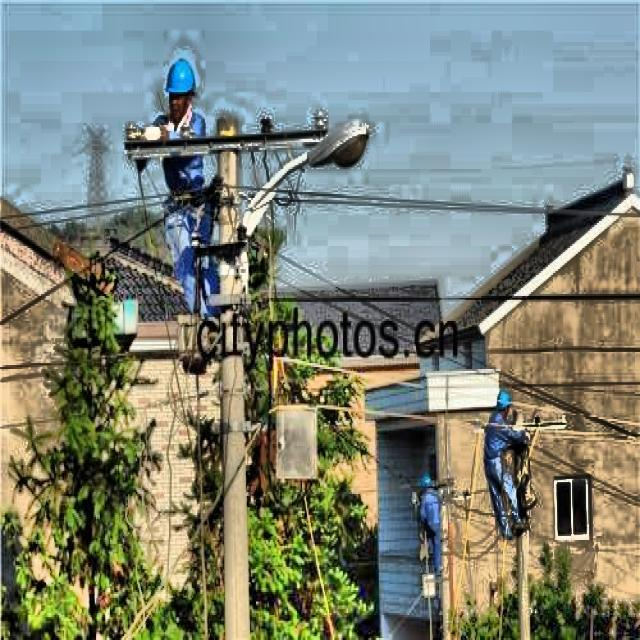helmet: (165, 52, 201, 119), (493, 386, 513, 427)
